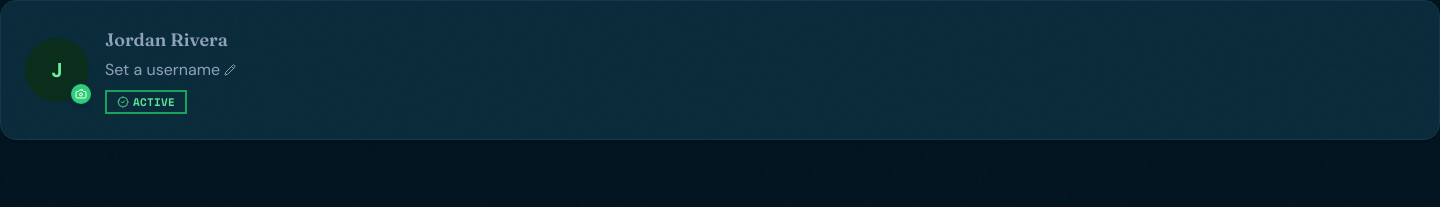
Test: ProfileCard username editing › rejects a reserved username without calling supabase (new: reserved-username guard for Forward Profiles)
Click the button "Set a username" at {"x": 170, "y": 70}, box [105, 58, 236, 82]
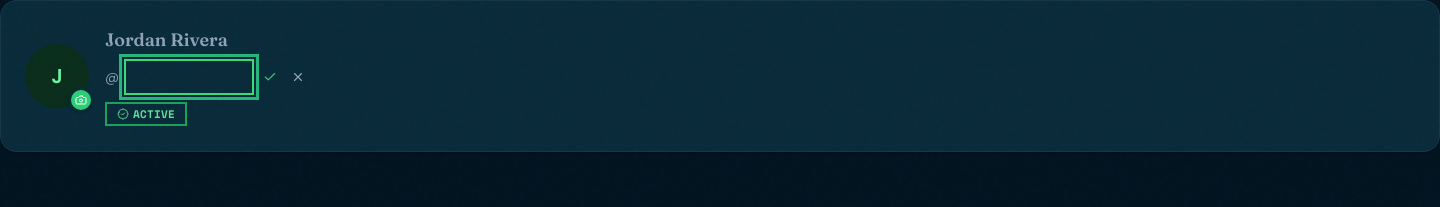
Type "admin" into the field named "Username" at {"x": 189, "y": 77}, box [125, 60, 253, 94]
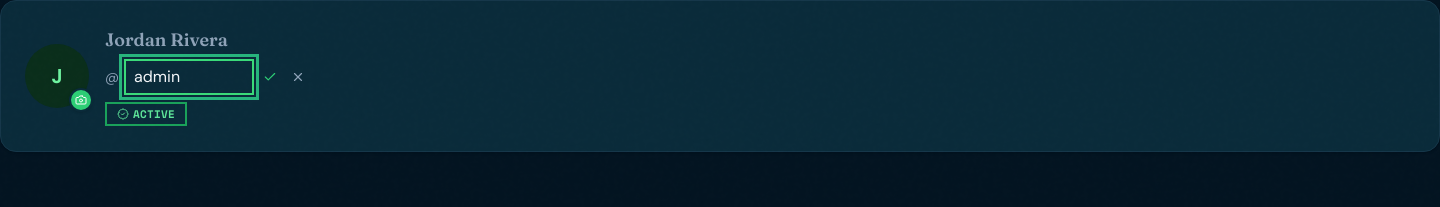
Click the button named "Save username" at {"x": 270, "y": 77}, box [259, 66, 281, 88]
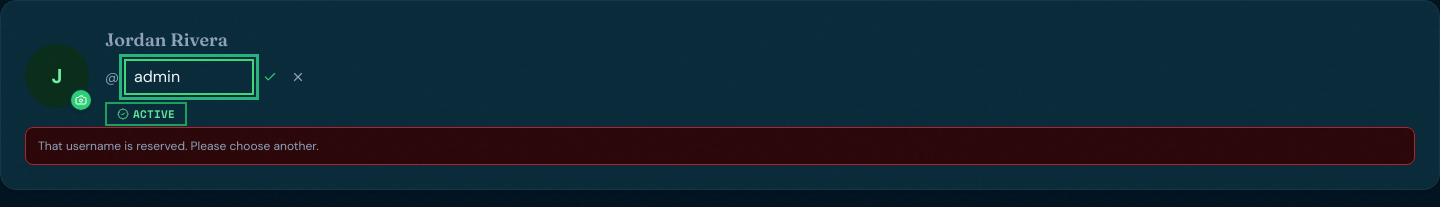
Expected: the text "That username is reserved. Please choose another." is shown, [25, 127, 1415, 165]
